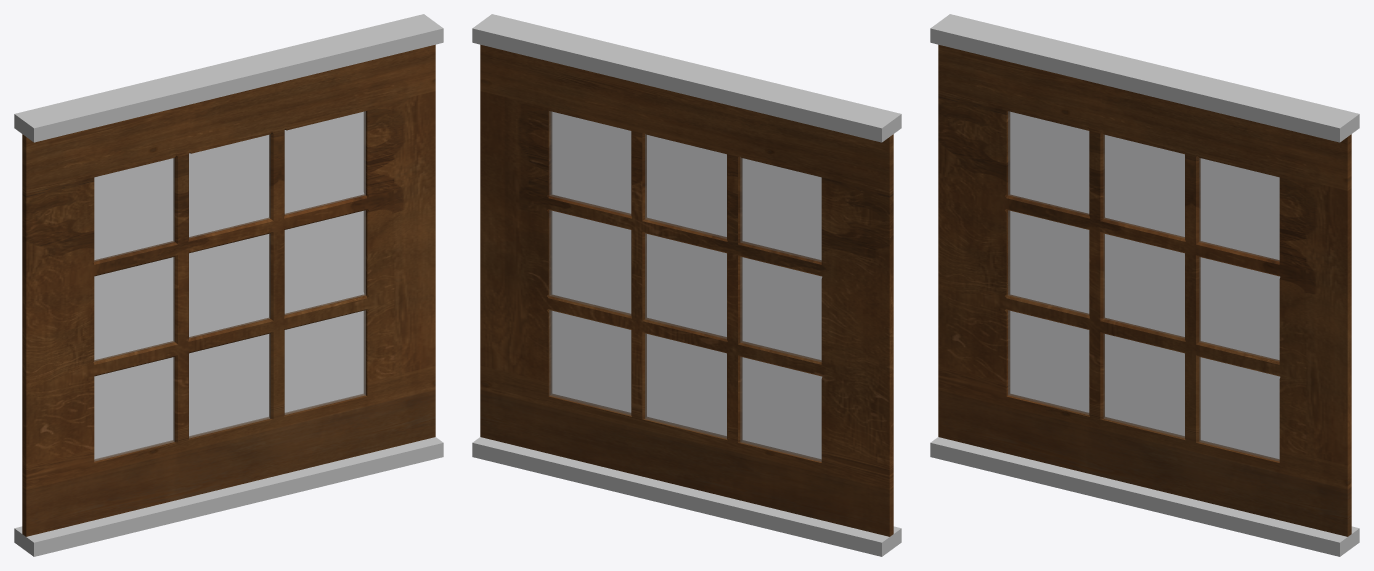
The model's file is WINDOW.fbx.
3 renders of one model, left to right at view 1: azimuth 30°, elevation 25°; view 2: azimuth 150°, elevation 25°; view 3: azimuth 330°, elevation 25°, orthographic.
Parts seen in each view (by area): view 1: pCube2; view 2: pCube2; view 3: pCube2.
Boxes of the visible parts, <box> form: pCube2: <box>14,14,443,556</box>; pCube2: <box>472,14,901,556</box>; pCube2: <box>930,14,1359,556</box>.
Bounding box in the file's own units: 300 × 300 × 25.
